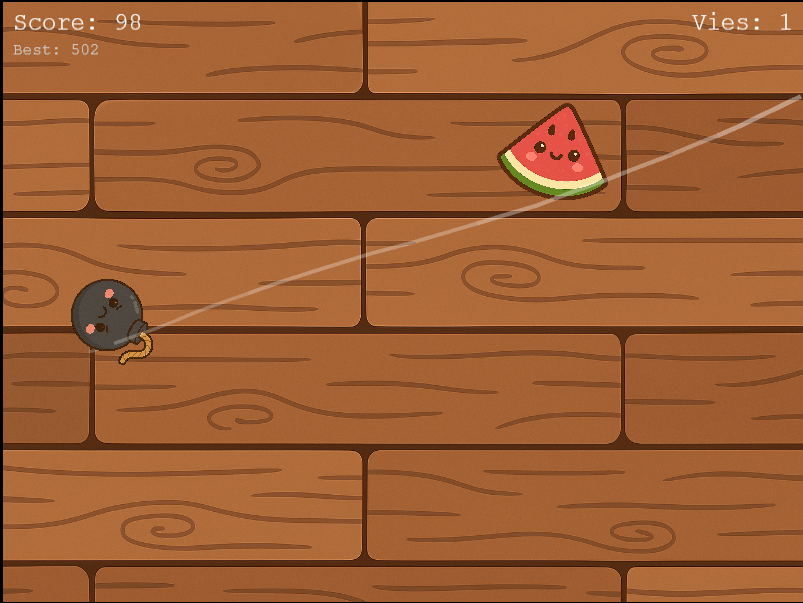bomb: (63, 272, 163, 368)
fruit: (489, 100, 622, 215)
